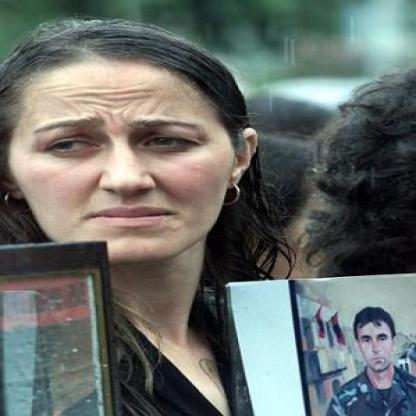face: (10, 26, 235, 269), (359, 311, 395, 373)
